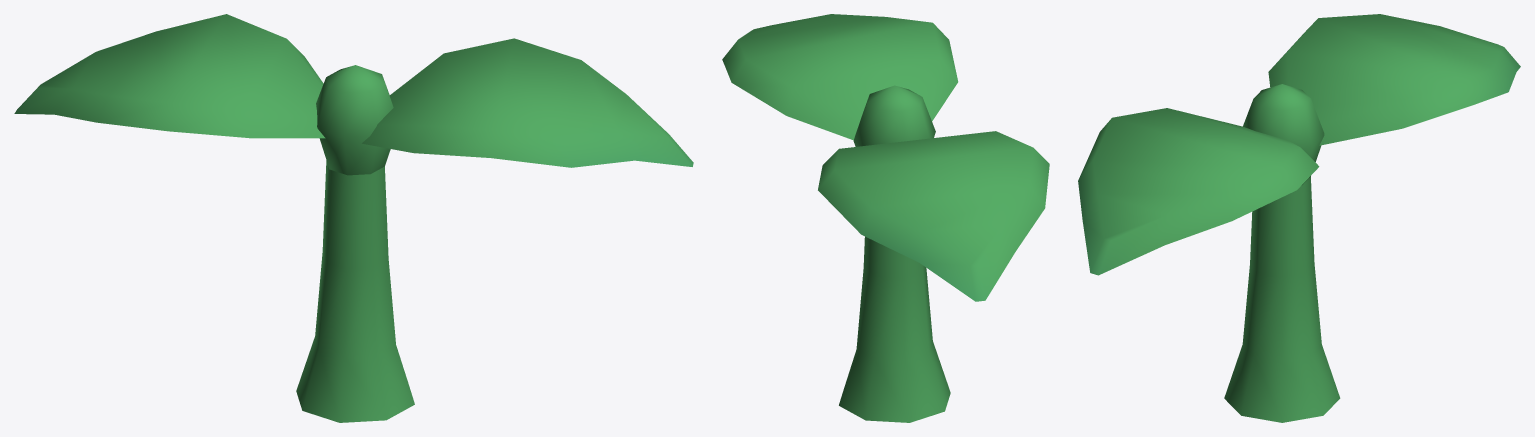
File: sprout.fbx
3 renders of one model, left to right at view 1: azimuth 30°, elevation 25°; view 2: azimuth 150°, elevation 25°; view 3: azimuth 270°, elevation 25°, orthographic. The views are drawn at different scales.
Visible parts, largest first — view 1: Cube.003, Cube.001, Cube.002; view 2: Cube.002, Cube.003, Cube.001; view 3: Cube.003, Cube.002, Cube.001.
Boxes of the visible parts, bbox=[...] form: Cube.003: bbox=[362, 38, 693, 167]; Cube.001: bbox=[296, 65, 414, 422]; Cube.002: bbox=[14, 14, 325, 138]; Cube.002: bbox=[818, 131, 1049, 301]; Cube.003: bbox=[722, 14, 958, 140]; Cube.001: bbox=[839, 85, 950, 422]; Cube.003: bbox=[1078, 108, 1319, 275]; Cube.002: bbox=[1268, 14, 1520, 145]; Cube.001: bbox=[1224, 84, 1340, 422].
Bounding box in the file's own units: 0.8311 × 0.5752 × 0.7343.
